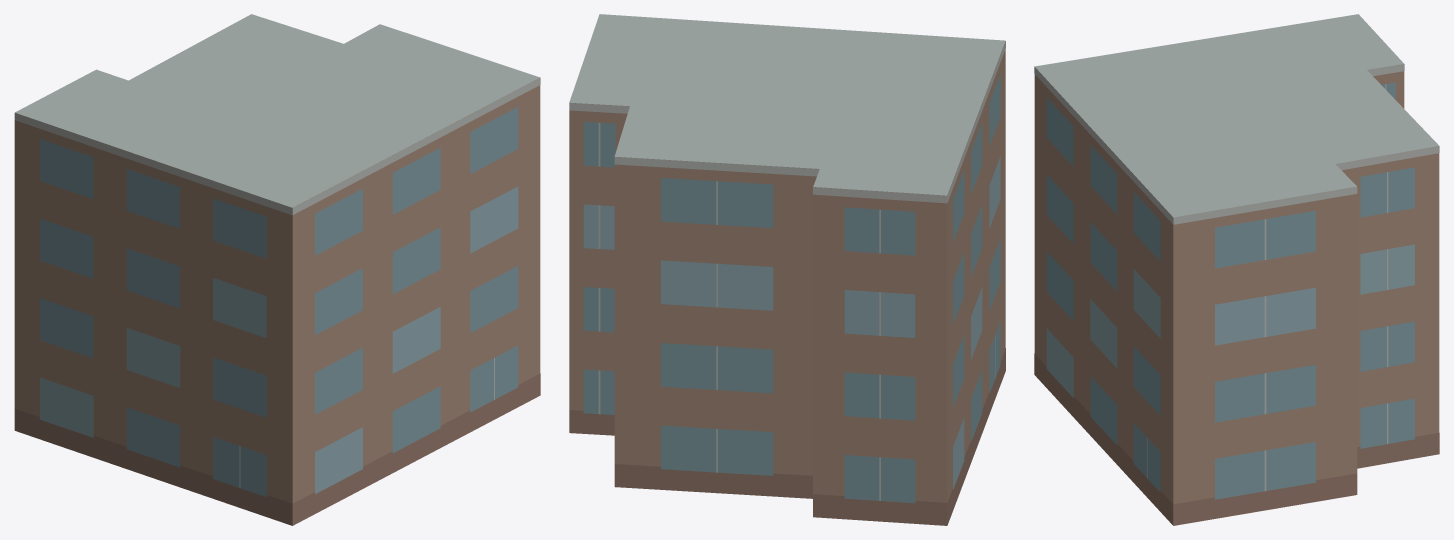
File: survey-upis-32990093.glb
3 views of the same model, side by side, from view 1: azimuth 30°, elevation 25°; view 2: azimuth 150°, elevation 25°; view 3: azimuth 270°, elevation 25° (orthographic). The views are drawn at different scales.
Visible parts, largest first — view 1: survey-upis-32990093.tmp; view 2: survey-upis-32990093.tmp; view 3: survey-upis-32990093.tmp.
Boxes of the visible parts, bbox=[...] form: survey-upis-32990093.tmp: bbox=[14, 14, 540, 525]; survey-upis-32990093.tmp: bbox=[569, 14, 1005, 525]; survey-upis-32990093.tmp: bbox=[1034, 14, 1439, 525].
Size of the model in its own units: 14.74 by 10.4 by 12.39.
